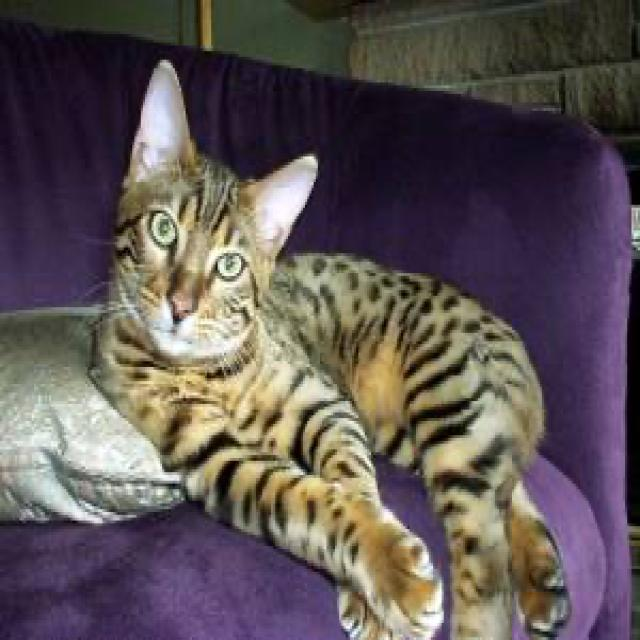cat: (111, 54, 316, 353)
